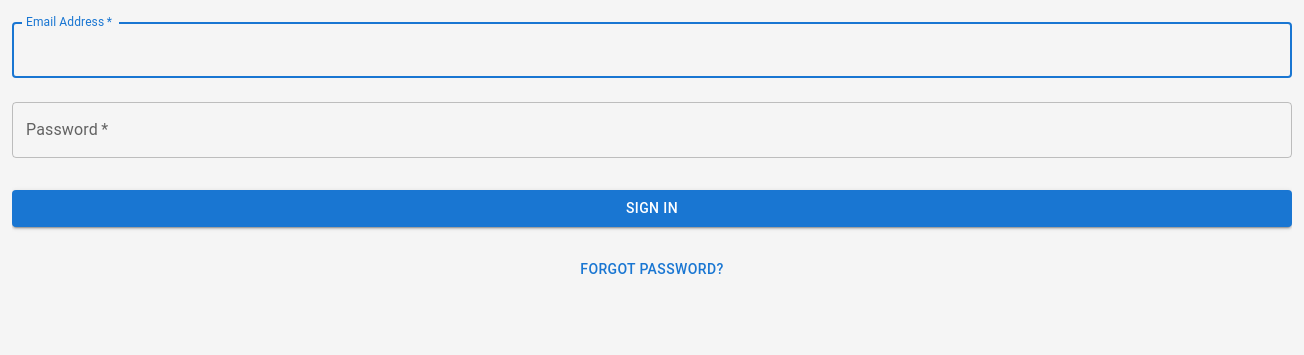
it: SignInForm › handles sign in errors other than credentials
Type "test@example.com" into the field labelled "Email Address *" at (652, 50), box [12,22,1292,78]
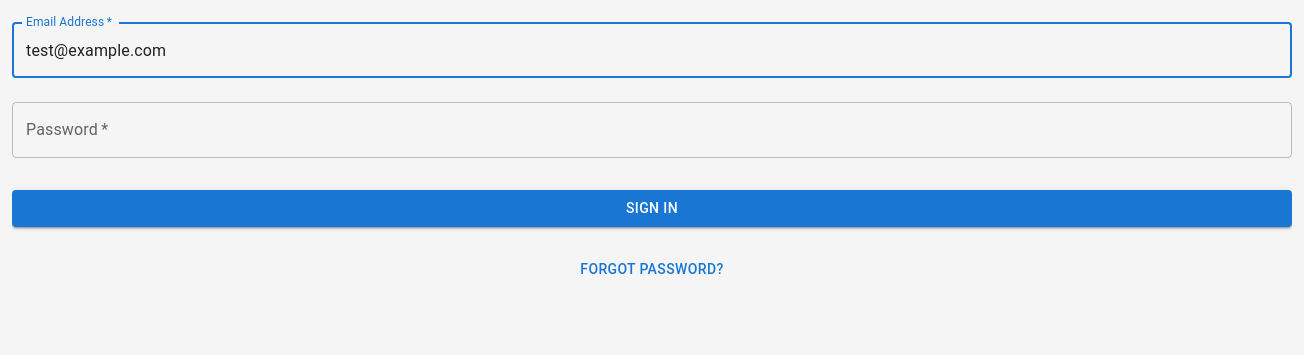
Type "password123" into the password field labelled "Password *" at (652, 130), box [12,102,1292,158]
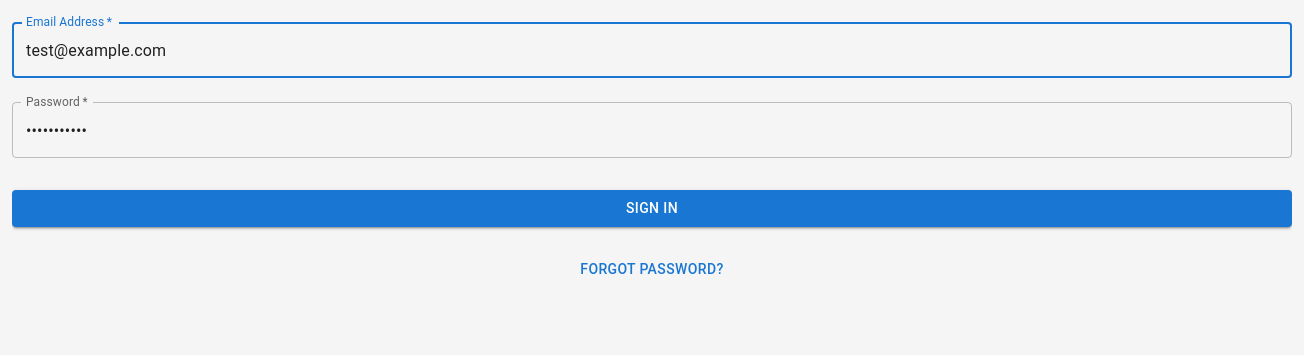
Click the button "Sign In" at (652, 208), box [12,190,1292,226]
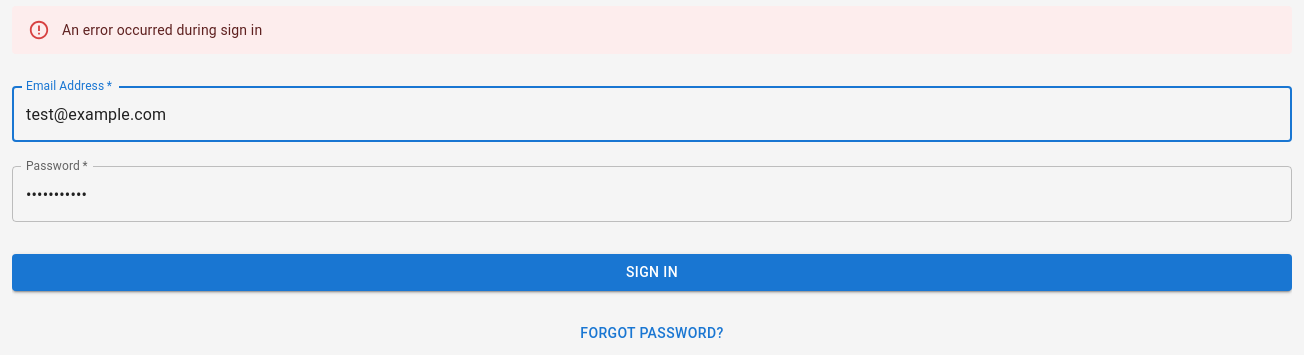
Now the text "An error occurred during sign in" is shown, box [62,22,262,38]
